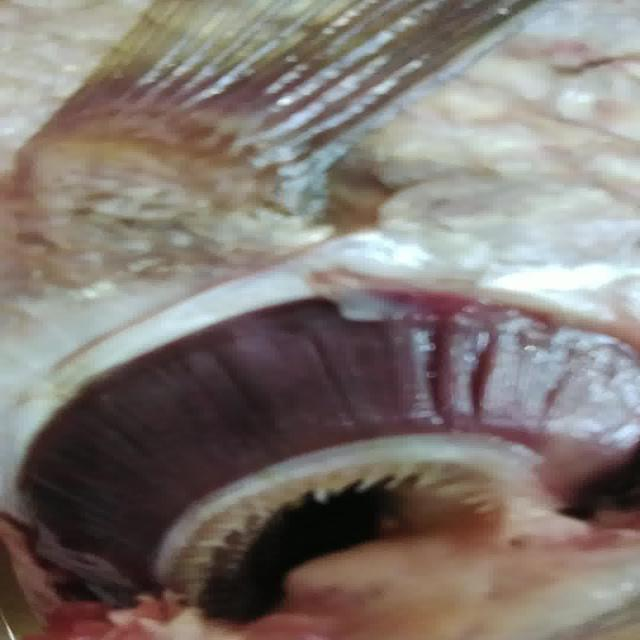Non-Fresh: (26, 266, 620, 600)
